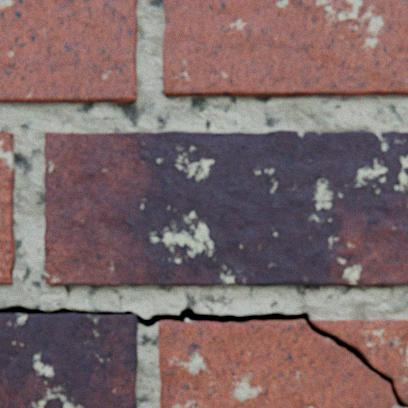brick: (45, 131, 407, 286), (163, 0, 407, 98), (0, 0, 138, 104), (0, 313, 138, 407), (0, 132, 16, 284)
broken_brick: (159, 320, 407, 407), (311, 319, 407, 402)
crack: (0, 304, 407, 406)
